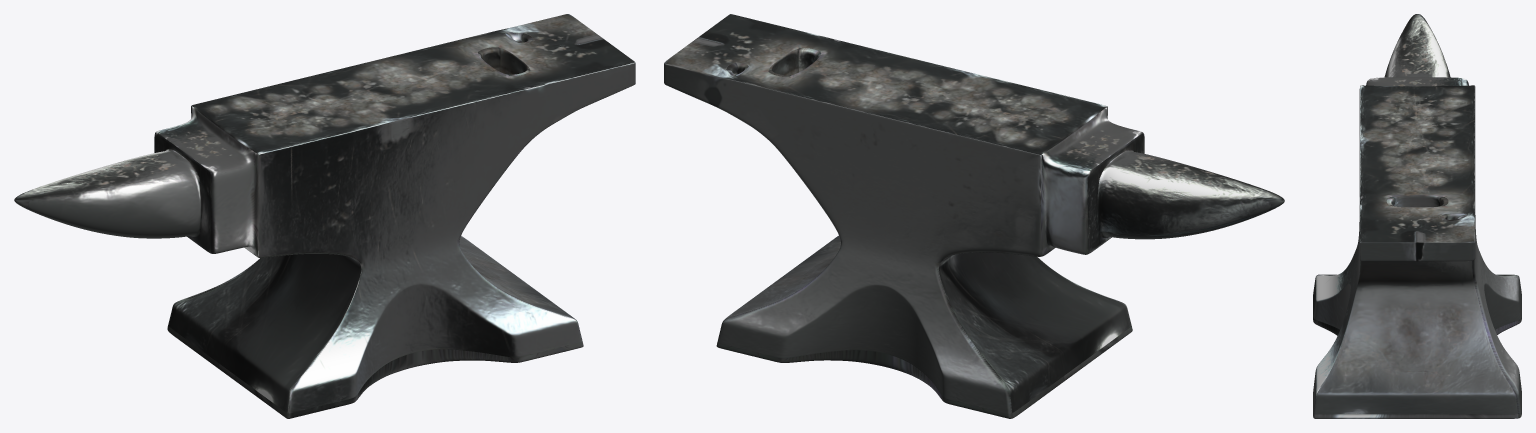
The model's file is anvil.glb.
The picture shows the model from 3 angles, left to right: view 1: azimuth 30°, elevation 25°; view 2: azimuth 150°, elevation 25°; view 3: azimuth 270°, elevation 25°; orthographic projection. The views are drawn at different scales.
Parts seen in each view (by area): view 1: Plane.005; view 2: Plane.005; view 3: Plane.005.
Boxes of the visible parts, x1,y1,x2,y2 form: Plane.005: (14, 14, 635, 418); Plane.005: (664, 14, 1284, 418); Plane.005: (1313, 14, 1521, 418).
Bounding box in the file's own units: 4.66 × 1.86 × 1.68.
Materials: 1 (1 with a texture image).
